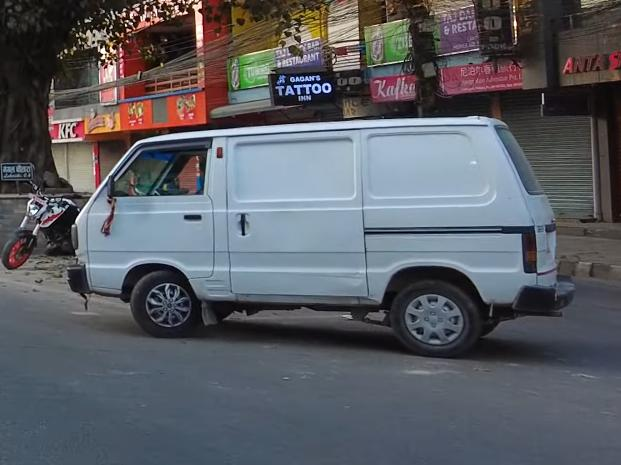van: (58, 110, 580, 365)
